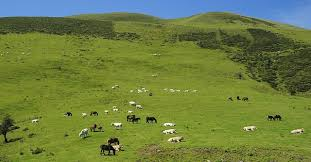sheep: (161, 126, 180, 138), (239, 122, 258, 133), (88, 109, 105, 121), (291, 128, 311, 138), (100, 144, 115, 156), (78, 129, 93, 141), (162, 118, 176, 130), (109, 137, 125, 147), (143, 116, 157, 126), (168, 135, 183, 144), (123, 107, 136, 117), (273, 113, 283, 125), (268, 113, 278, 125), (112, 105, 123, 115), (134, 104, 146, 113), (65, 110, 73, 122), (242, 94, 251, 104), (133, 87, 145, 94), (129, 100, 139, 108), (227, 96, 236, 104), (31, 118, 40, 126), (175, 86, 183, 95), (91, 124, 99, 132), (236, 94, 243, 103), (112, 85, 121, 92), (164, 85, 171, 94), (193, 86, 199, 95), (183, 88, 190, 95)
